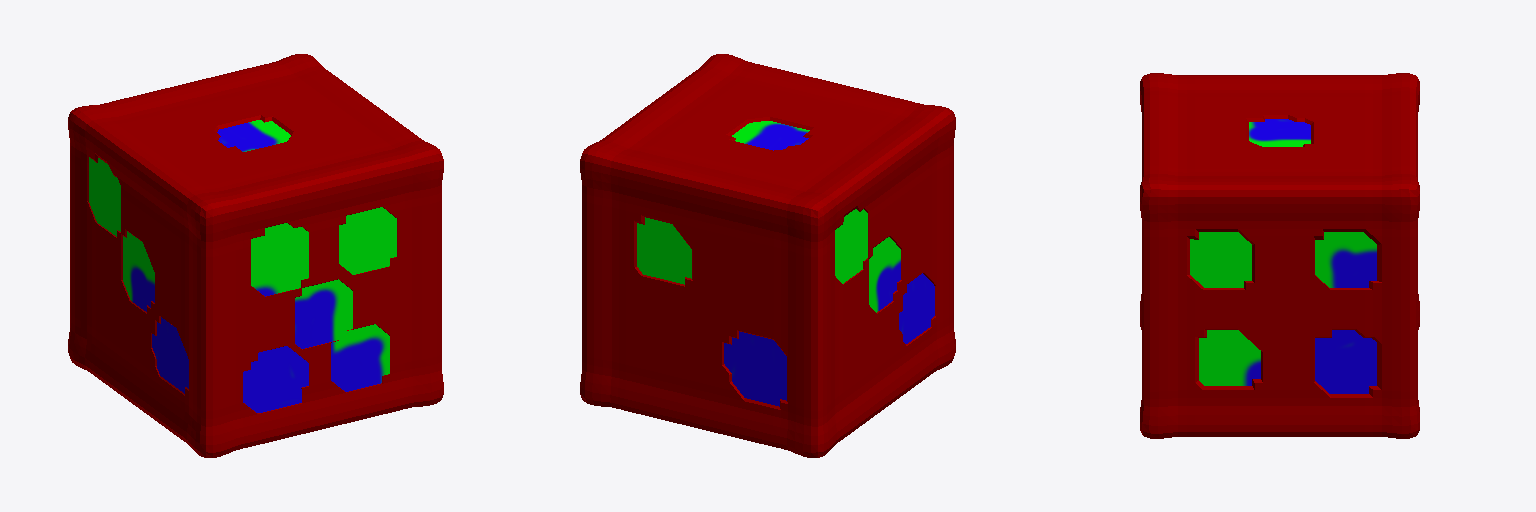
The picture shows the model from 3 angles: view 1: azimuth 30°, elevation 25°; view 2: azimuth 150°, elevation 25°; view 3: azimuth 270°, elevation 25°; orthographic projection.
Parts seen in each view (by area): view 1: HazeciKostkaLava_Plane.009; view 2: HazeciKostkaLava_Plane.009; view 3: HazeciKostkaLava_Plane.009.
Boxes of the visible parts, box(x1,y1,x2,y2) form: HazeciKostkaLava_Plane.009: box(68, 54, 443, 457); HazeciKostkaLava_Plane.009: box(580, 54, 955, 457); HazeciKostkaLava_Plane.009: box(1140, 73, 1419, 438).
Bounding box in the file's own units: 1.08 × 1.08 × 1.08.
2 materials, 1 textured.